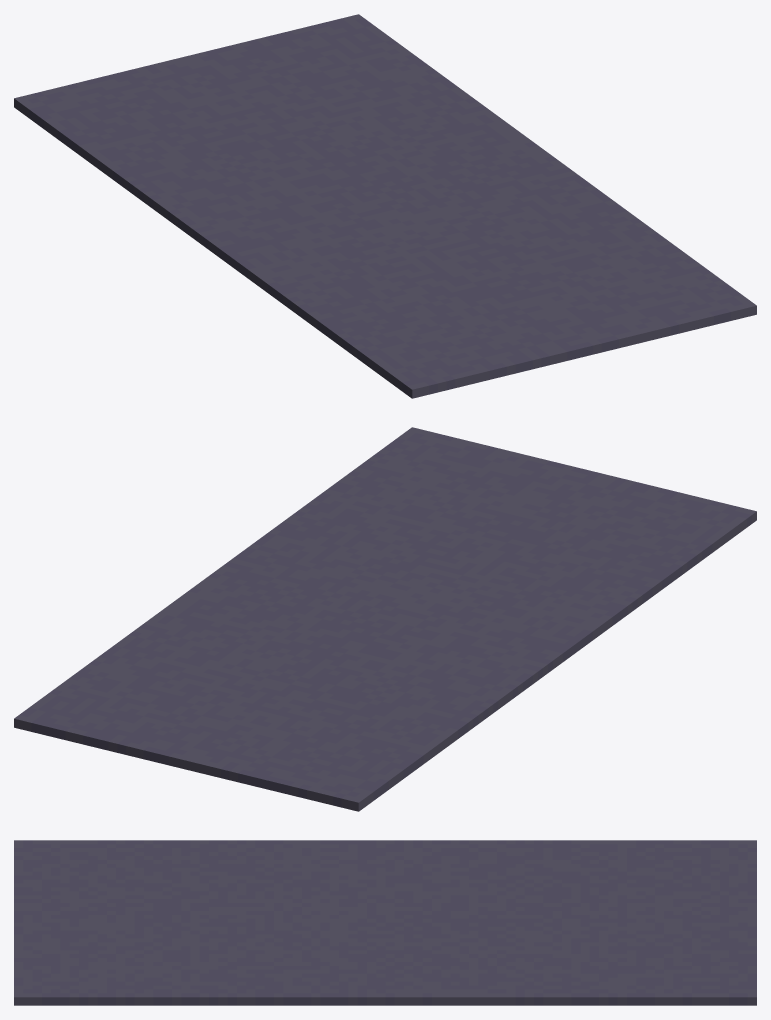
The model's file is floor_01_M.dae.
3 renders of one model, top to bottom at view 1: azimuth 30°, elevation 25°; view 2: azimuth 150°, elevation 25°; view 3: azimuth 270°, elevation 25°, orthographic. The views are drawn at different scales.
Parts seen in each view (by area): view 1: Untitled; view 2: Untitled; view 3: Untitled.
Part boxes in pixels (box(x1,y1,x2,y2)): Untitled: box(14, 14, 756, 398); Untitled: box(14, 427, 756, 811); Untitled: box(14, 840, 756, 1005).
Bounding box in the file's own units: 1.2 × 2.4 × 0.03.
1 material, 1 textured.
